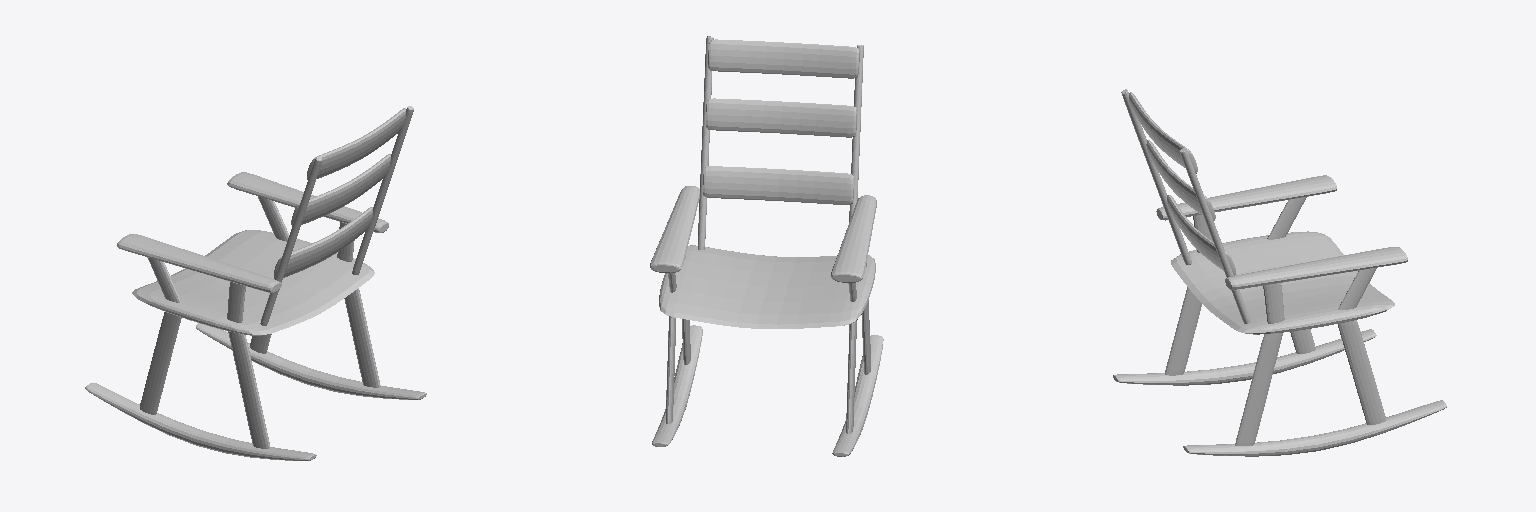
File: chair.obj
The picture shows the model from 3 angles: view 1: azimuth 30°, elevation 25°; view 2: azimuth 150°, elevation 25°; view 3: azimuth 270°, elevation 25°; orthographic projection.
Visible parts, largest first — view 1: rocking.chair; view 2: rocking.chair; view 3: rocking.chair.
Part boxes in pixels (left/top/right/bottom): rocking.chair: left=85, top=106, right=426, bottom=460; rocking.chair: left=650, top=36, right=883, bottom=456; rocking.chair: left=1113, top=89, right=1446, bottom=456.
Size of the model in its own units: 0.8218 by 0.9943 by 0.9486.